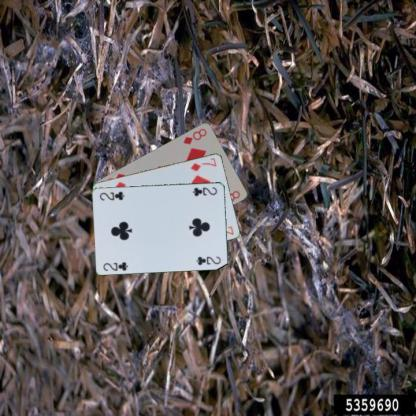2c: (101, 259, 130, 272), (190, 184, 218, 197)
7d: (188, 155, 218, 172)
8d: (181, 126, 208, 146)
